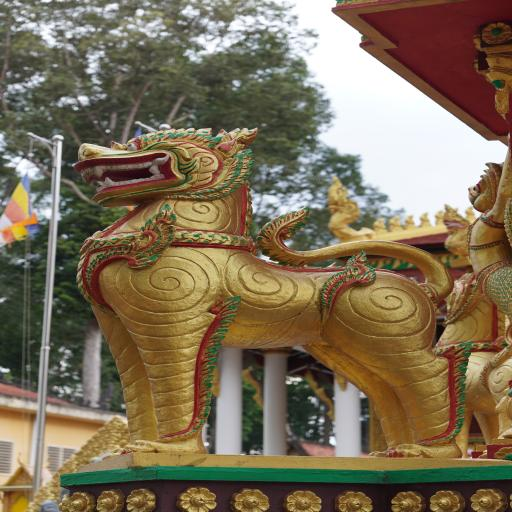hoa: (45, 113, 490, 466), (434, 160, 498, 356), (230, 485, 272, 512), (174, 487, 219, 512), (337, 485, 377, 512), (282, 487, 324, 512), (467, 487, 508, 512), (424, 487, 464, 512), (124, 486, 158, 512), (57, 488, 93, 512), (386, 490, 420, 512), (92, 489, 122, 512)
lua: (385, 210, 405, 232), (368, 217, 390, 236), (397, 212, 418, 230), (414, 210, 431, 228), (459, 204, 478, 220), (430, 208, 446, 225)
ran: (312, 166, 392, 239)
